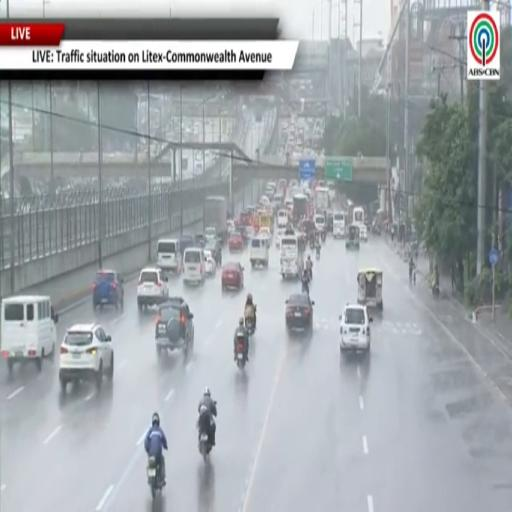car: (59, 324, 113, 392), (156, 297, 194, 357), (339, 304, 372, 351), (137, 267, 169, 310), (93, 270, 124, 309), (286, 294, 314, 331), (222, 262, 244, 291), (204, 240, 221, 265), (180, 234, 195, 257), (204, 250, 216, 276), (228, 232, 244, 251), (234, 227, 248, 245), (258, 228, 271, 245), (276, 230, 286, 248), (195, 234, 207, 247), (204, 227, 217, 239), (360, 226, 368, 242), (227, 220, 235, 233), (246, 227, 254, 239)
motorcycle: (197, 413, 212, 461), (147, 457, 163, 499), (236, 339, 246, 370), (245, 317, 255, 335), (432, 284, 440, 298), (302, 280, 309, 294), (321, 230, 326, 243), (316, 247, 320, 261), (310, 239, 315, 250)
truck: (204, 197, 227, 244), (292, 194, 308, 224), (314, 187, 329, 213)
